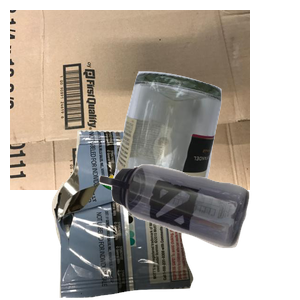cardboard: (10, 10, 250, 190)
glass: (109, 69, 300, 249)
plastic: (97, 162, 300, 300)
trash: (49, 130, 235, 300)
